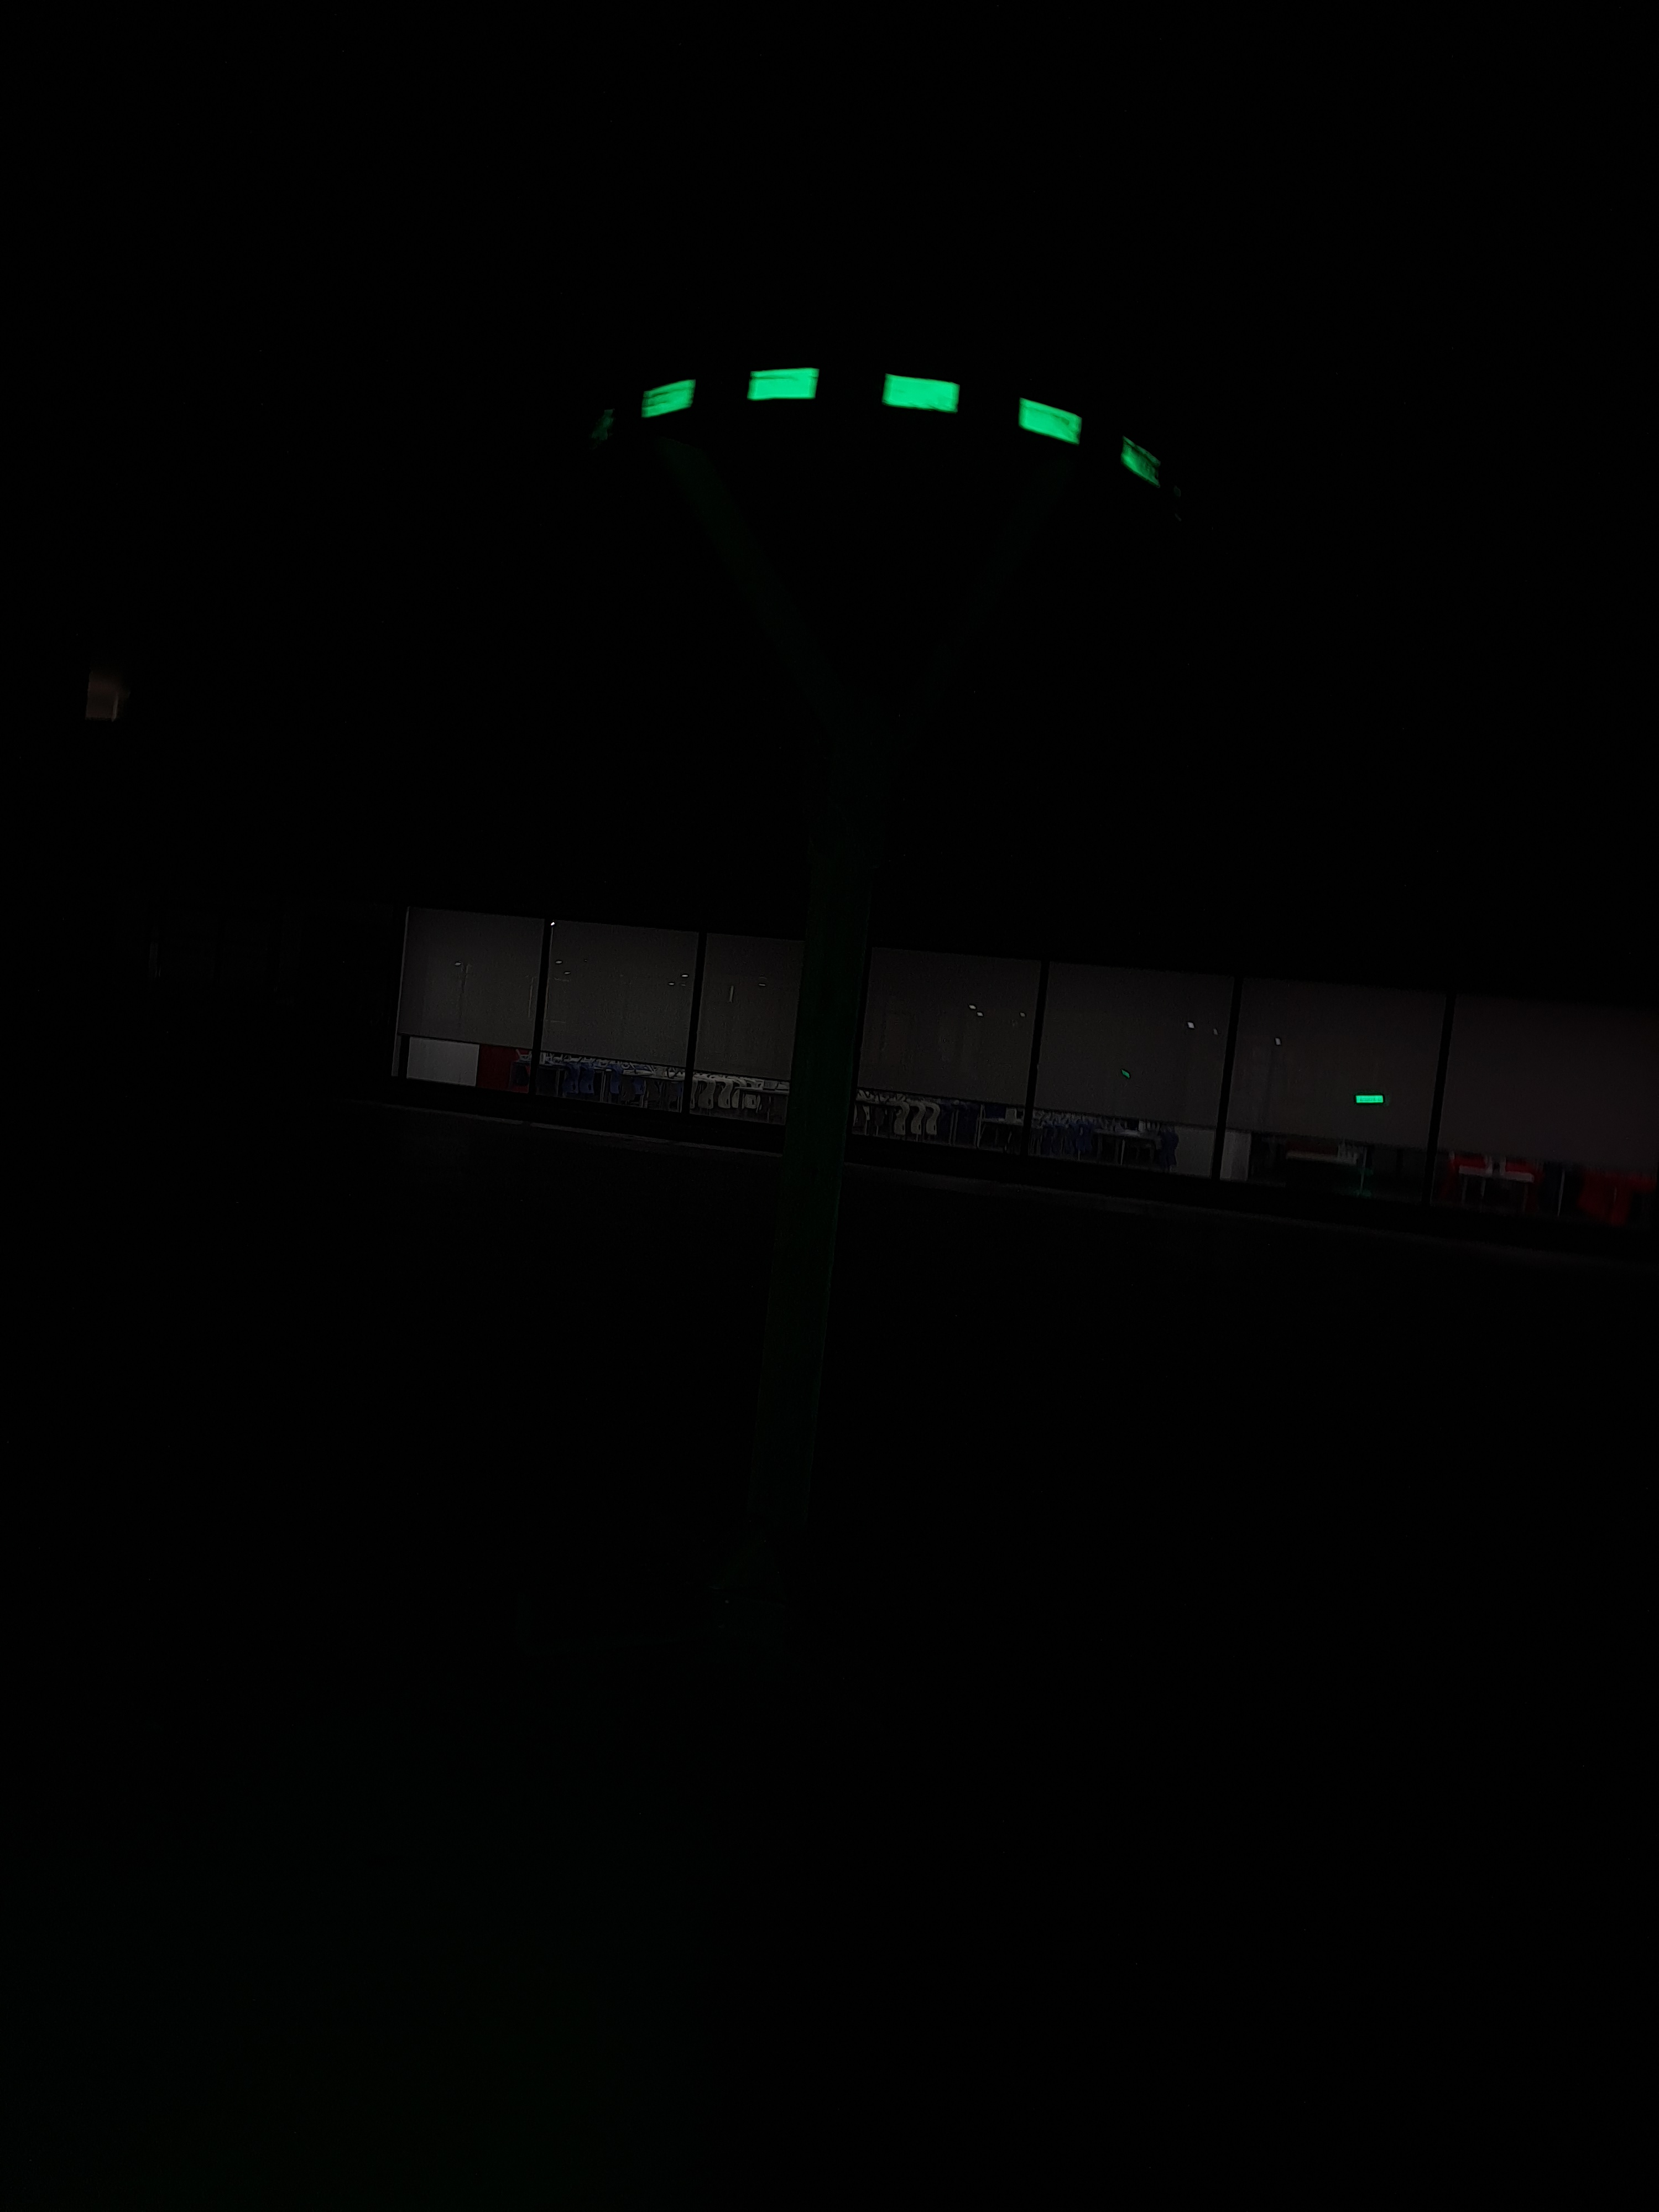hoop: (633, 347, 1168, 495)
